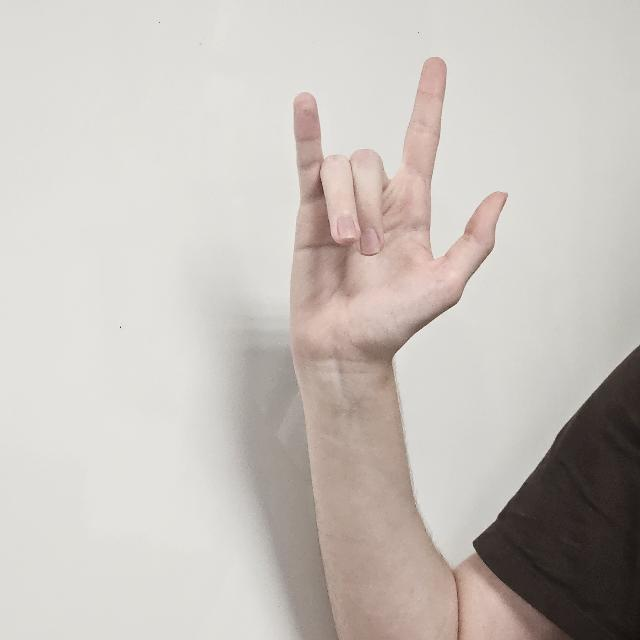Cima: (284, 56, 506, 370)
